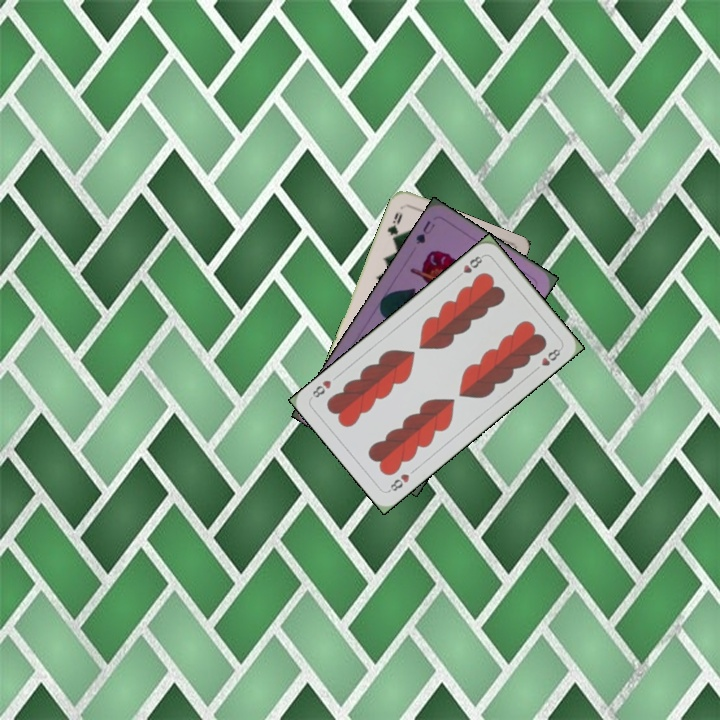G9: (383, 208, 405, 245)
GU: (411, 216, 438, 247)
H8: (452, 251, 486, 281), (384, 470, 412, 495)
